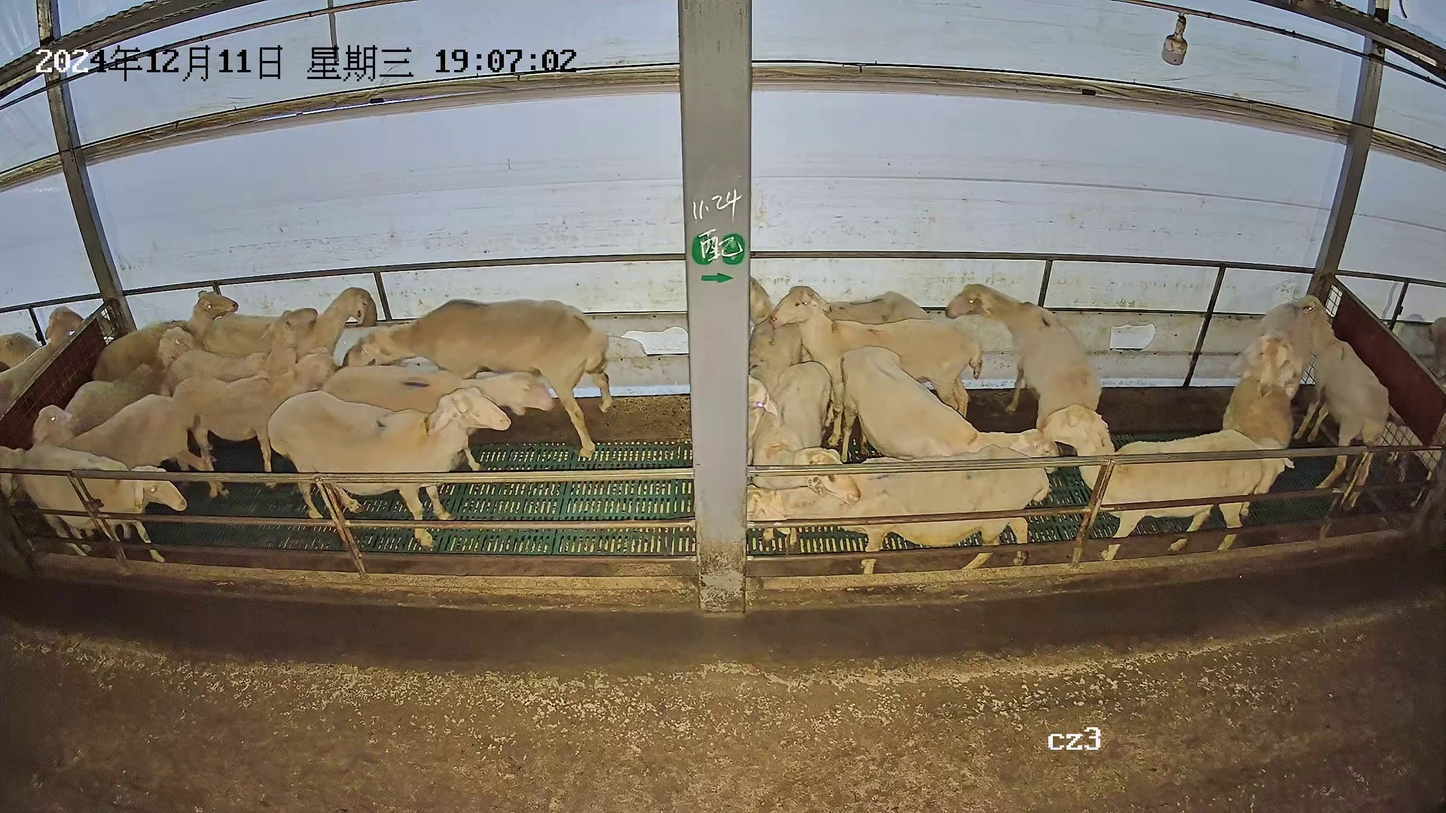Smounting: (1214, 300, 1317, 500)
mounted: (1219, 373, 1299, 496)
